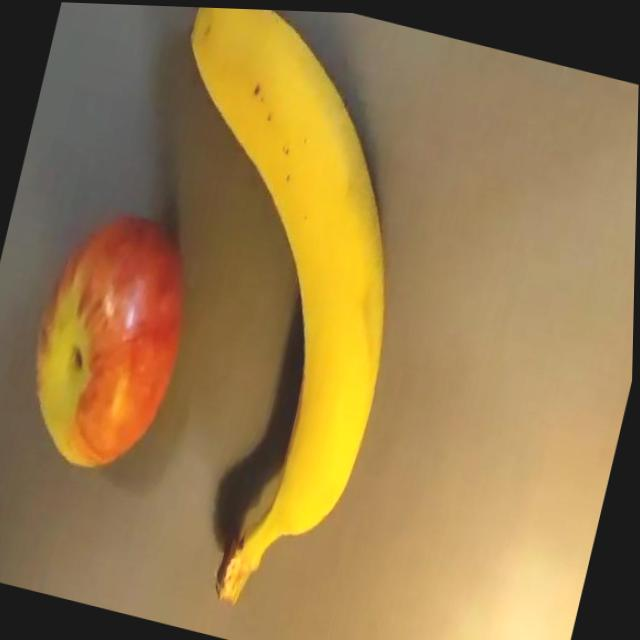Apple: (11, 197, 208, 485)
Banana: (64, 2, 457, 630)
